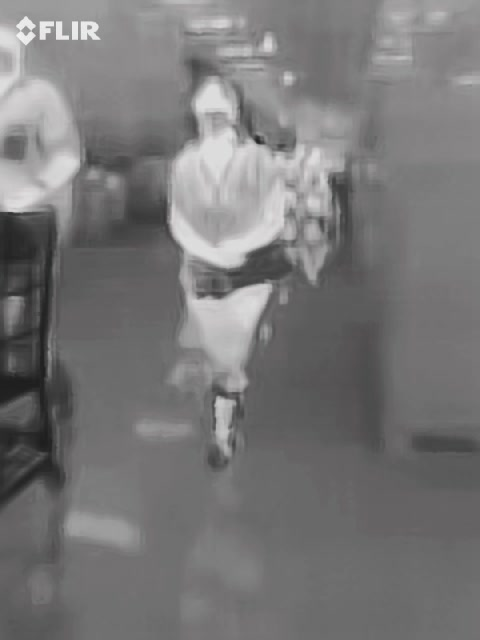head: (192, 75, 238, 136), (1, 25, 28, 84)
